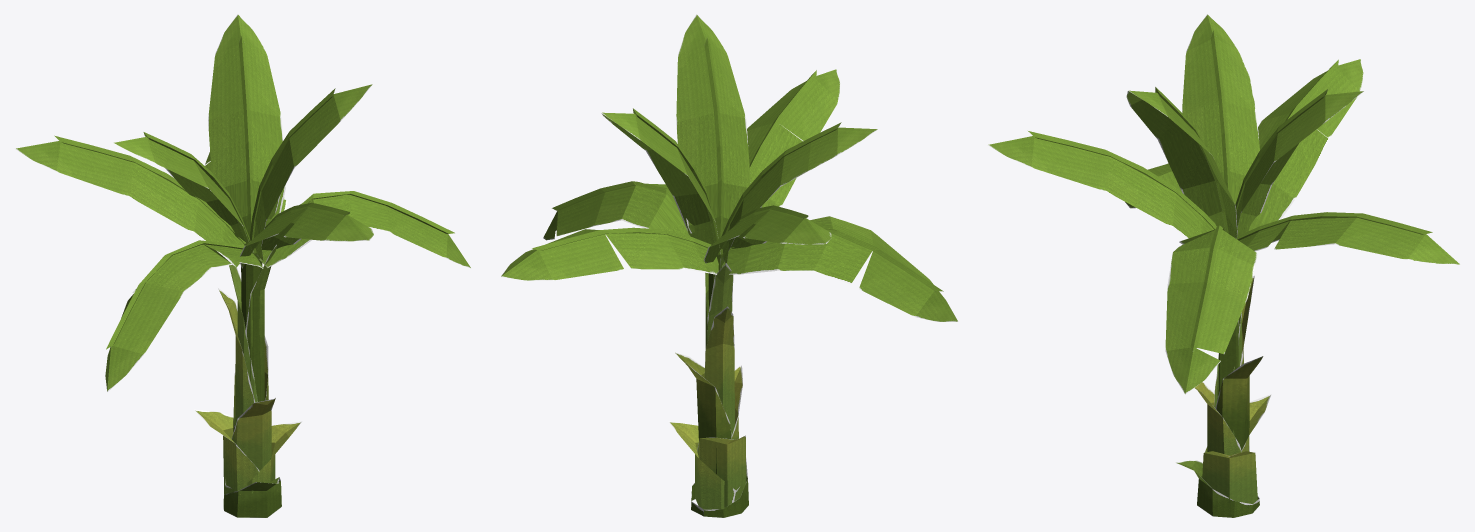
File: Batang pisang.fbx
3 renders of one model, left to right at view 1: azimuth 30°, elevation 25°; view 2: azimuth 150°, elevation 25°; view 3: azimuth 270°, elevation 25°, orthographic. The views are drawn at different scales.
Parts seen in each view (by area): view 1: Batang pisang; view 2: Batang pisang; view 3: Batang pisang.
Boxes of the visible parts, x1,y1,x2,y2 form: Batang pisang: (14, 14, 470, 517); Batang pisang: (501, 14, 958, 517); Batang pisang: (987, 14, 1460, 517).
Bounding box in the file's own units: 20.89 × 22.5 × 21.44.
